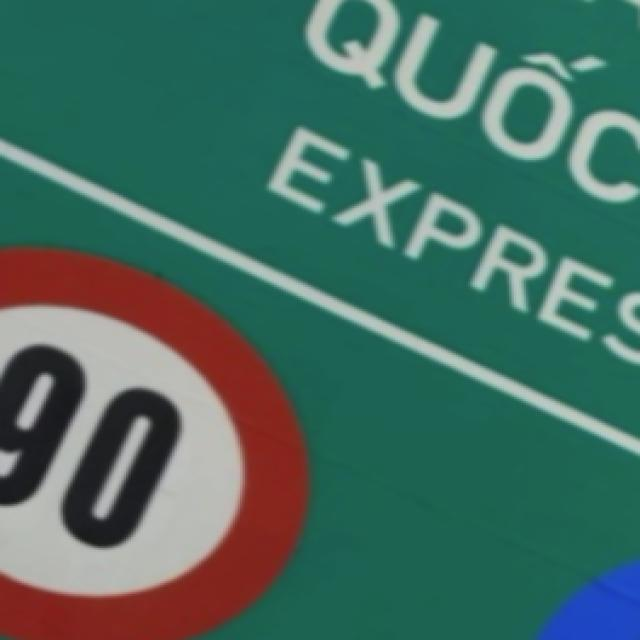Speed Limit -90-: (0, 244, 312, 640)
